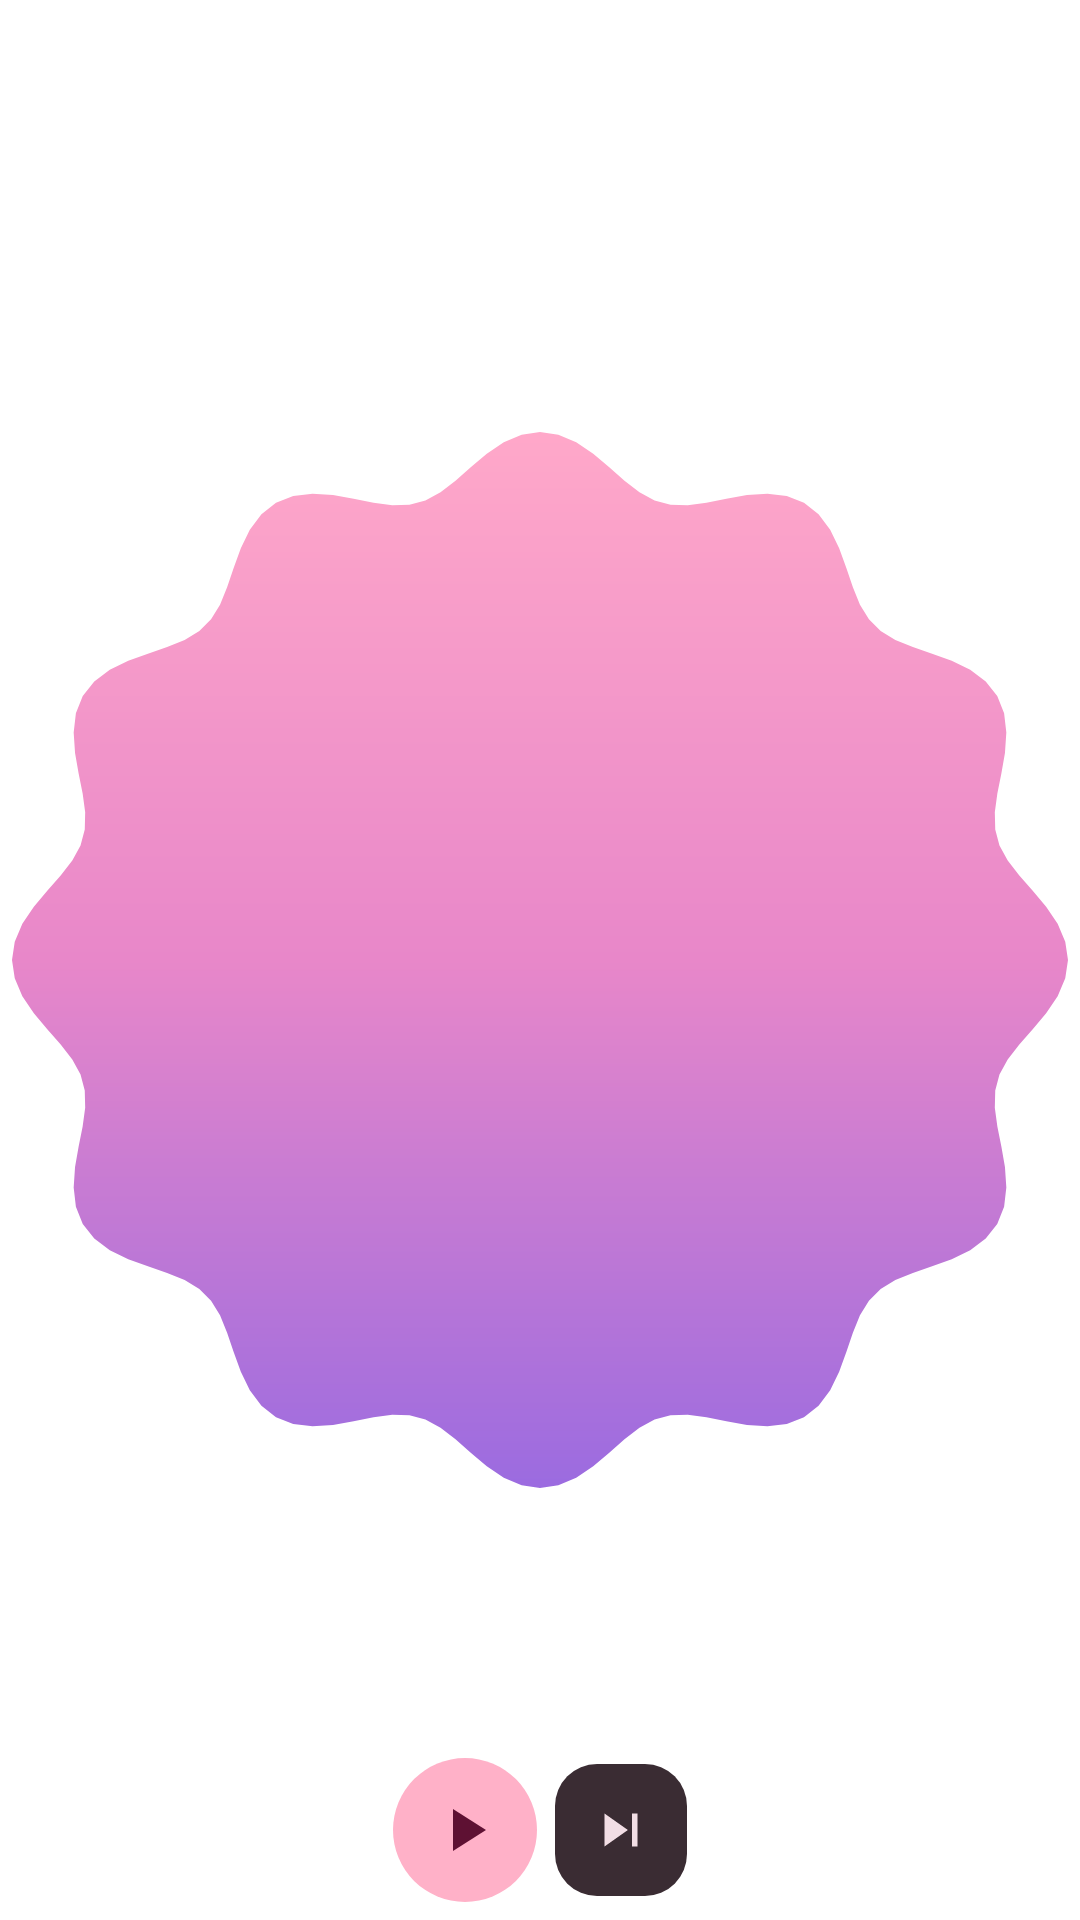

Screen size 1080 x 1920. Icon name, then its box in pixels as (x1, y1, x2, y2):
Next: (604, 1813, 638, 1847)
Play: (453, 1809, 486, 1851)
